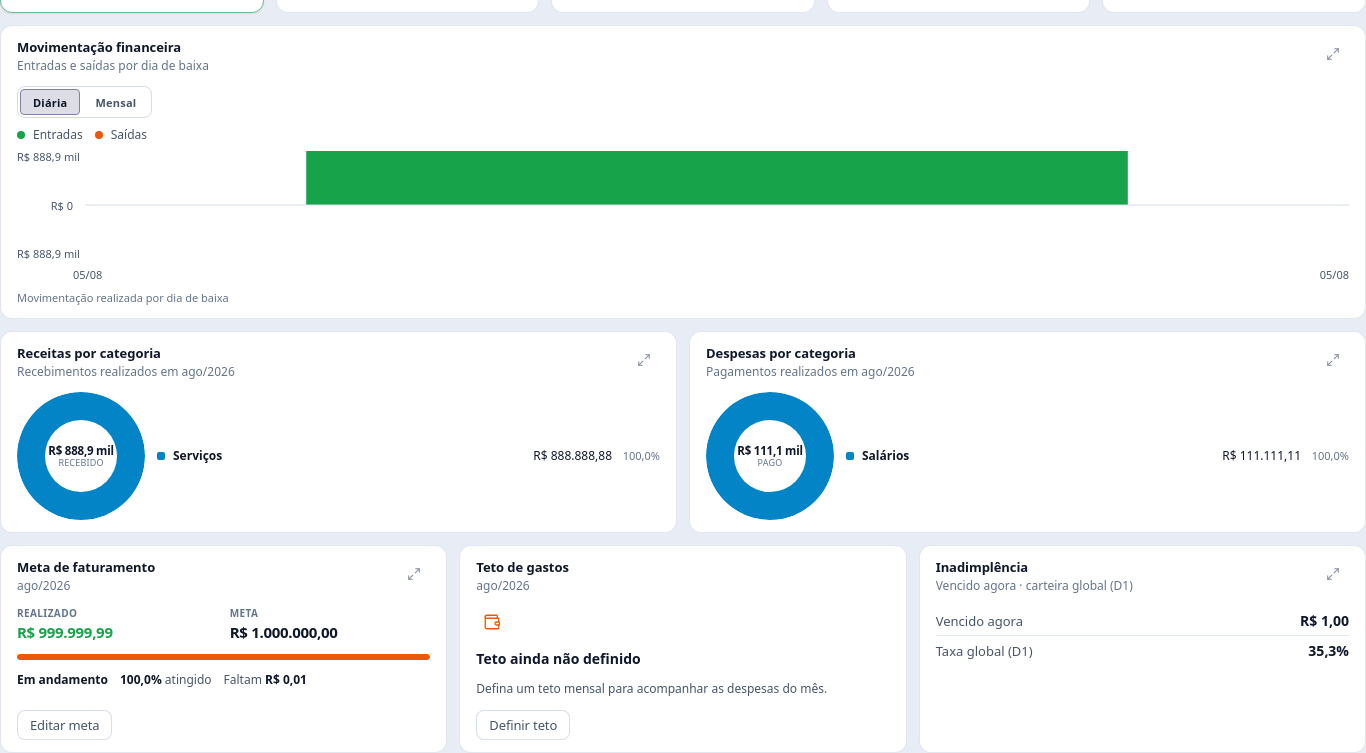
it: PRE-F13-HOME-POLISH-1 — expansão Home caixa › Z21 — Meta continua abrindo
This screenshot has width=1366, height=753.
(page scrolled)
Step 1. Click the 4th button named "Expandir" → (414,574), box [398,558,430,590]
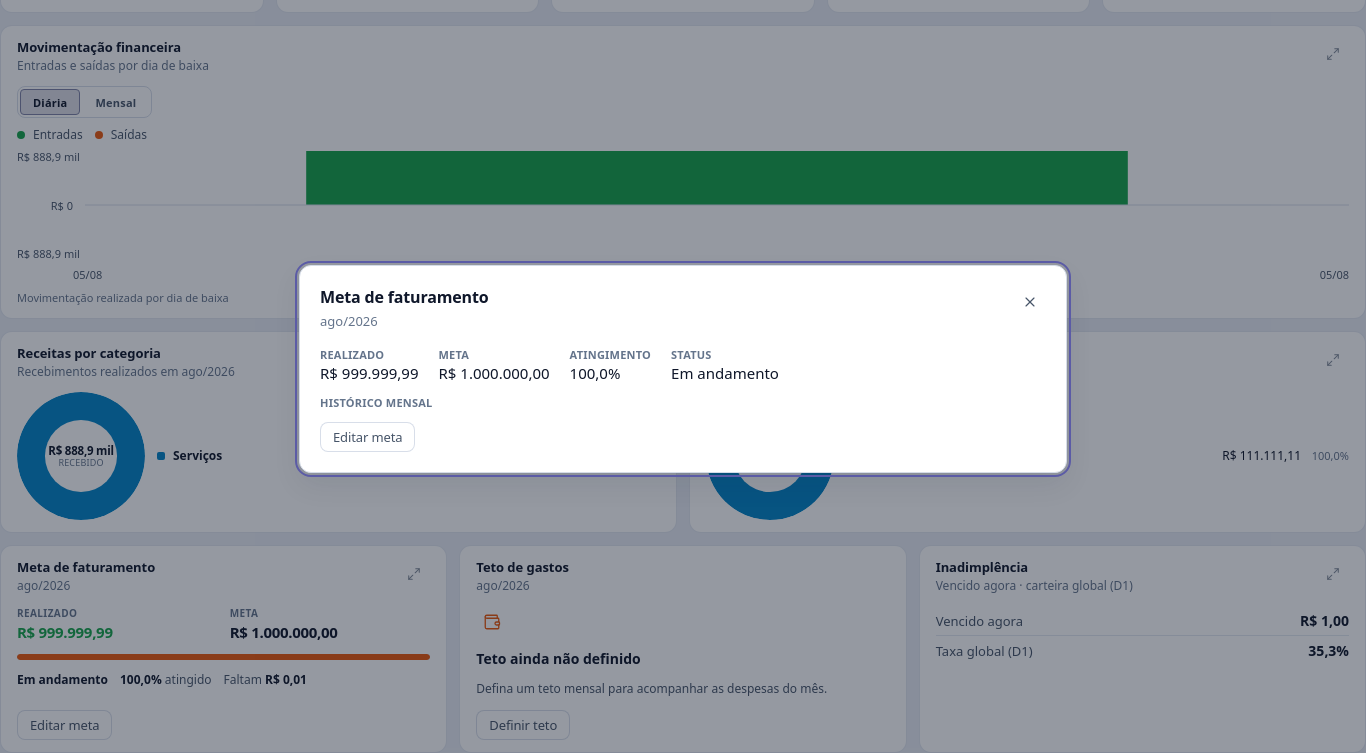
Result: the heading "Meta de faturamento" is shown at [320,286,488,308]
Result: the text "Realizado" is shown at [320,347,384,362]
